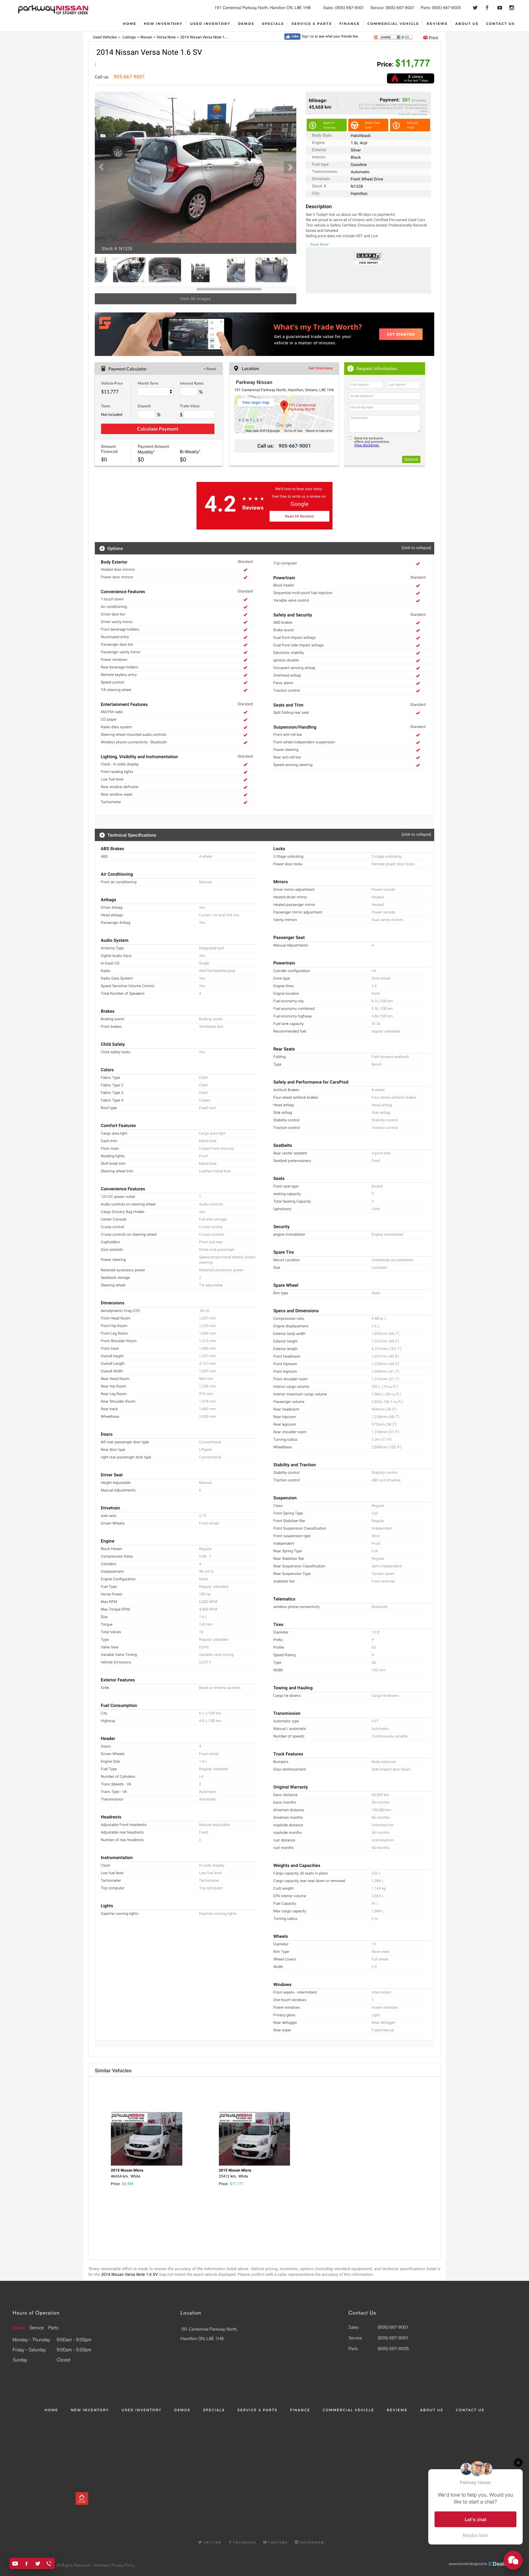car: (283, 159, 297, 174)
